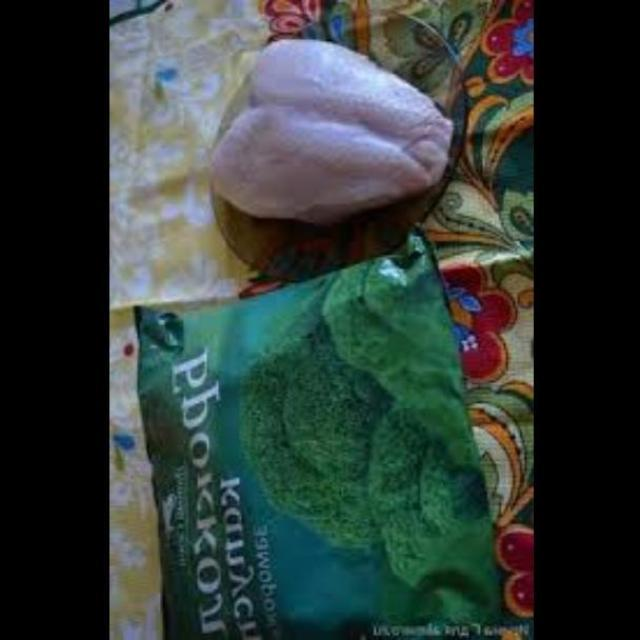Broccoli: (239, 346, 479, 552)
